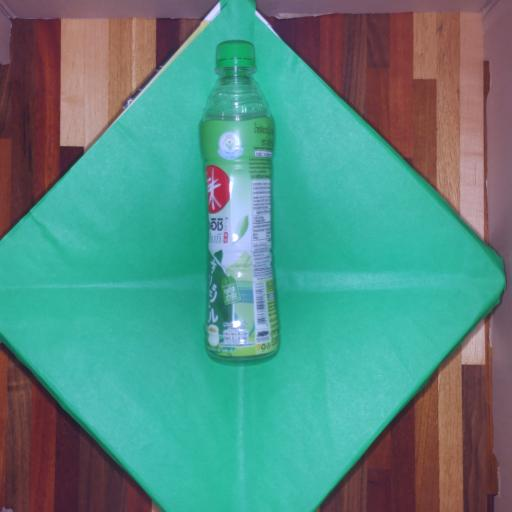bottle: (201, 41, 278, 360)
